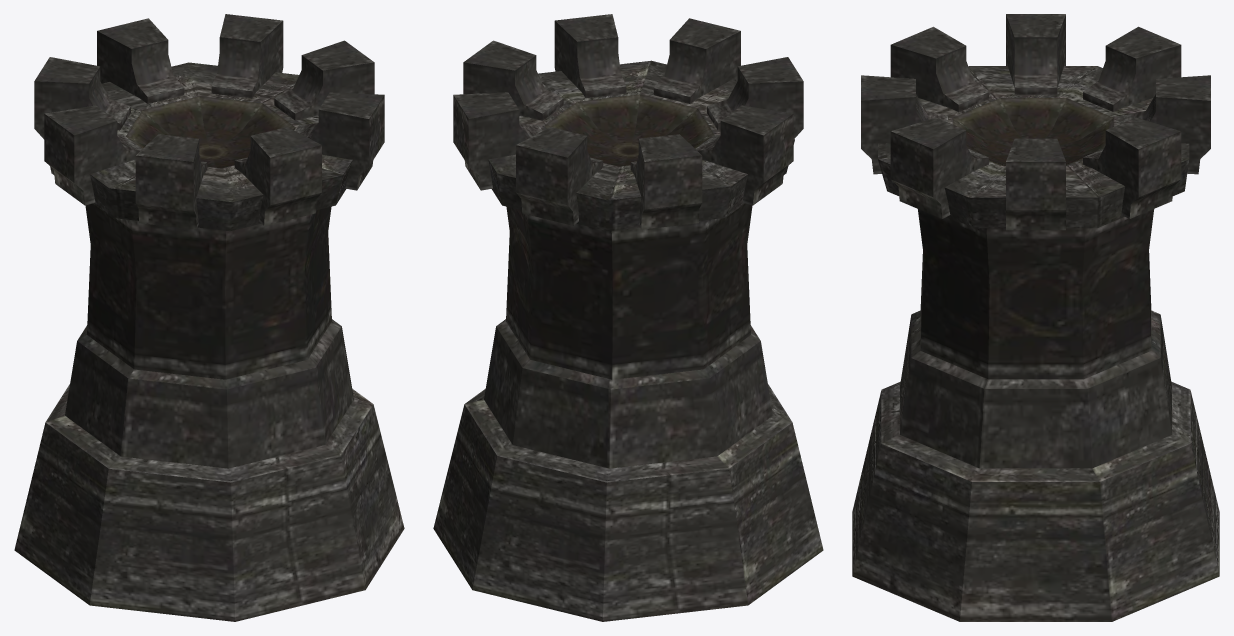
File: eso_gu11_StoneBrazier-transformed.glb
The picture shows the model from 3 angles, left to right: view 1: azimuth 30°, elevation 25°; view 2: azimuth 150°, elevation 25°; view 3: azimuth 270°, elevation 25°; orthographic projection.
Visible parts, largest first — view 1: default; view 2: default; view 3: default.
Boxes of the visible parts, bbox=[...] form: default: bbox=[14, 14, 404, 621]; default: bbox=[433, 14, 823, 621]; default: bbox=[852, 14, 1219, 621].
Size of the model in its own units: 1.98 by 2.72 by 1.98.
1 material, 1 textured.
